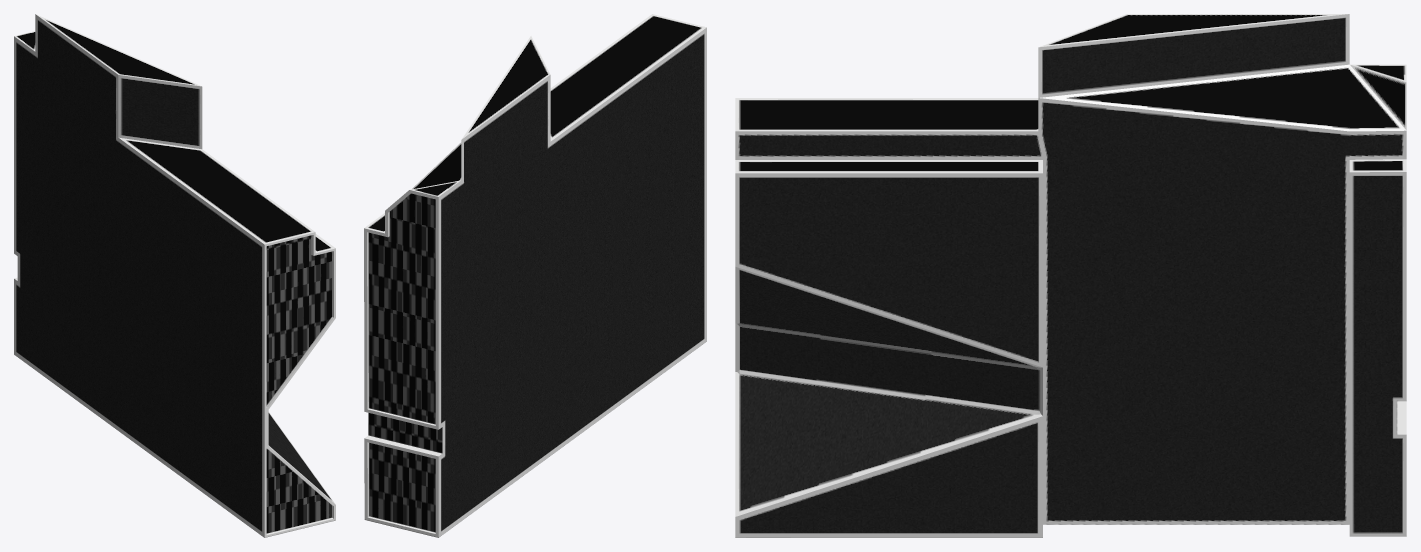
The model's file is blocker_b1_MESH.fbx.
3 views of the same model, side by side, from view 1: azimuth 30°, elevation 25°; view 2: azimuth 150°, elevation 25°; view 3: azimuth 270°, elevation 25° (orthographic). The views are drawn at different scales.
Parts seen in each view (by area): view 1: blocker_b1_MESH; view 2: blocker_b1_MESH; view 3: blocker_b1_MESH.
Boxes of the visible parts, x1=… form: blocker_b1_MESH: x1=14, y1=14, x2=335, y2=537; blocker_b1_MESH: x1=364, y1=14, x2=706, y2=537; blocker_b1_MESH: x1=735, y1=14, x2=1406, y2=537.
Size of the model in its own units: 1670 by 10147 by 7958.
